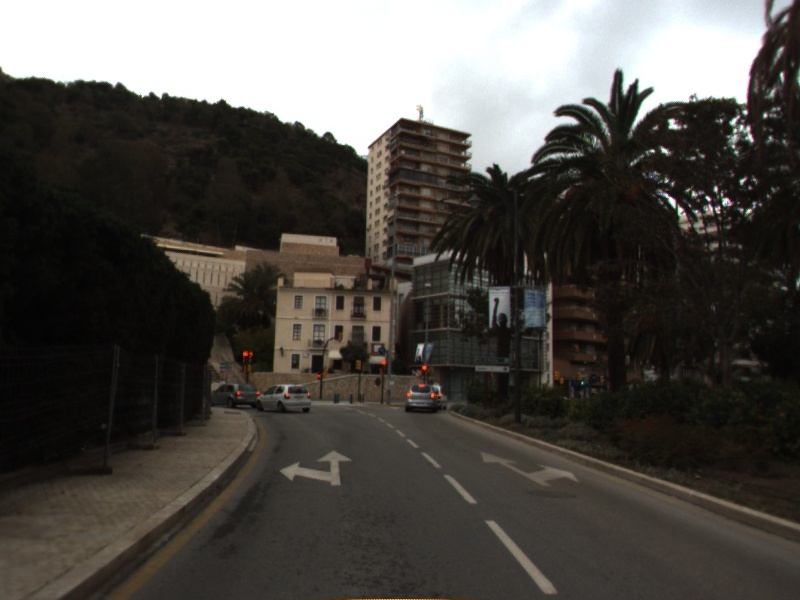STRAIGHT_LEFT: (278, 449, 354, 487)
STRAIGHT_RIGHT: (479, 450, 580, 488)
